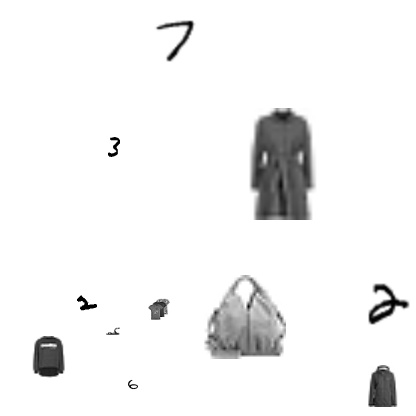2: (357, 276, 413, 332), (71, 290, 99, 318)
3: (100, 132, 128, 160)
6: (125, 378, 139, 392)
7: (149, 7, 205, 63)
Bag: (202, 275, 286, 359)
Coat: (361, 365, 403, 407)
Dress: (227, 108, 339, 220)
Pullover: (27, 336, 69, 378)
Sandal: (106, 324, 120, 338)
T-shirt/top: (148, 298, 170, 320)
